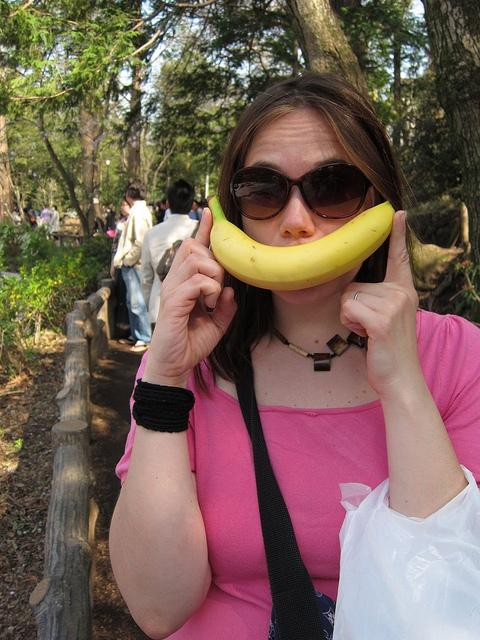banana: (206, 194, 396, 290)
